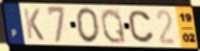2: (155, 9, 177, 46)
7: (45, 5, 68, 45)
C: (127, 9, 156, 44)
K: (22, 7, 46, 42)
O: (75, 6, 102, 45)
Q: (99, 7, 128, 45)
